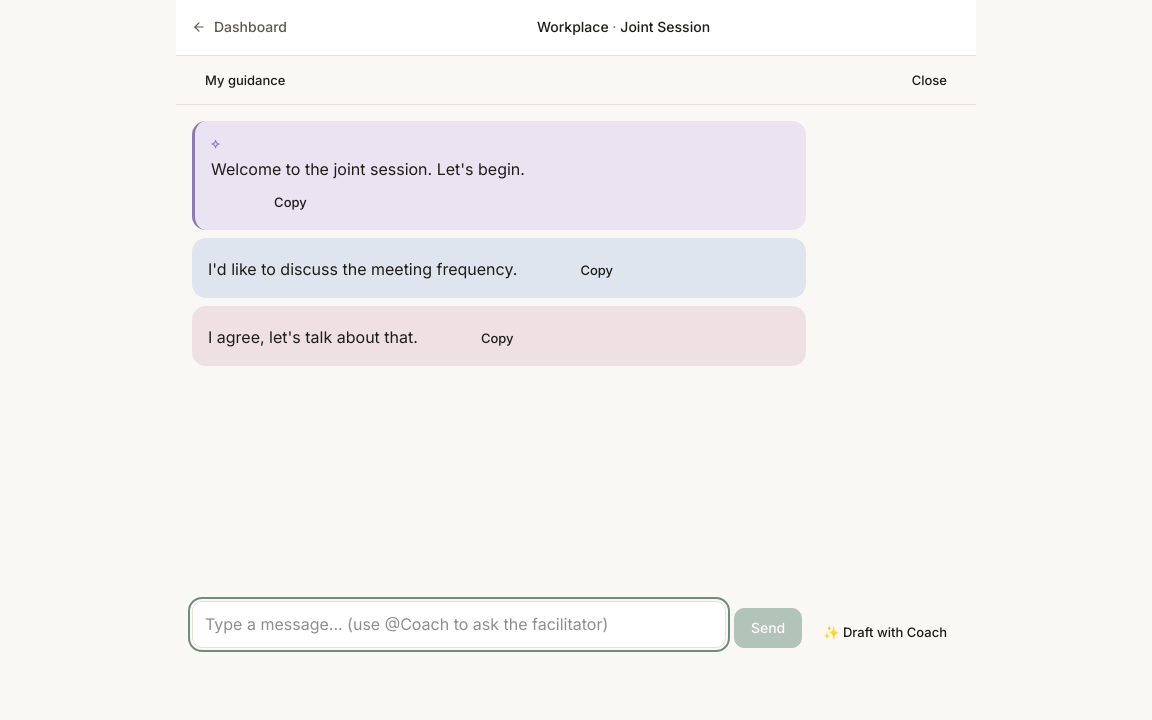
Test: AC: Top nav: 'My guidance' link opens synthesis panel, 'Close' button opens closure modal › shows fallback when synthesis is null
What coordinates should you click on to do the following:
click the button "My guidance"
I would click on:
 (245, 80)
Its box is [192, 64, 298, 96].
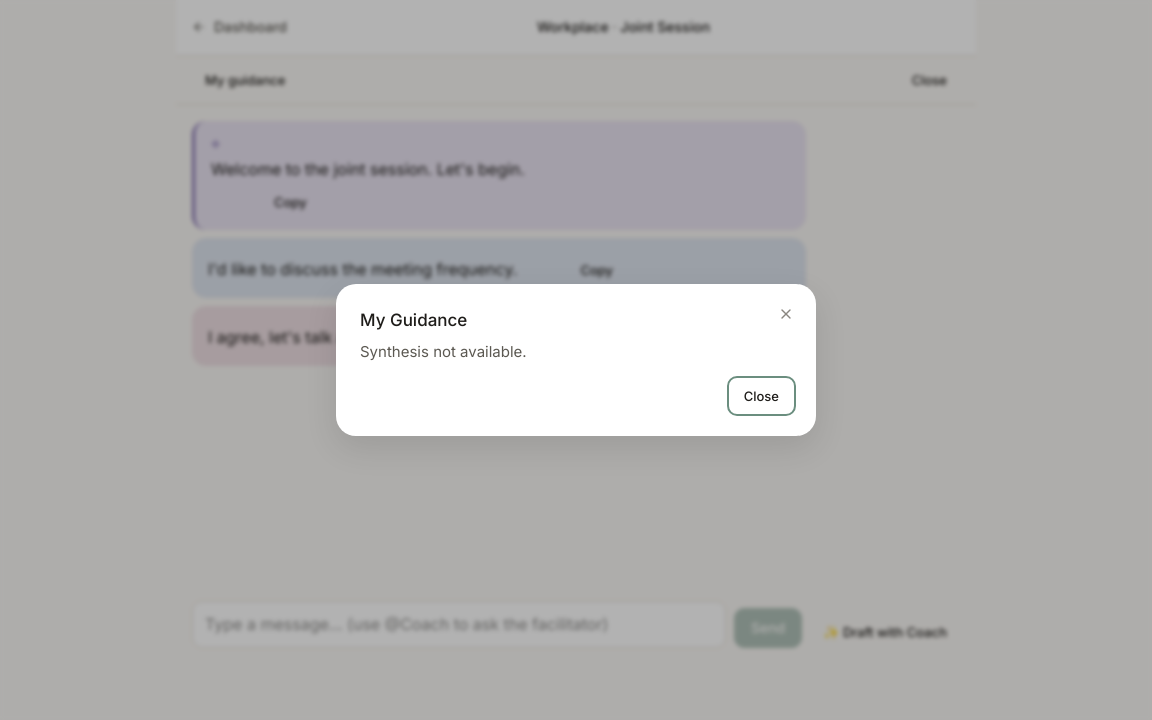
expect the text "Synthesis not available." is shown: met, box [360, 342, 527, 361]
